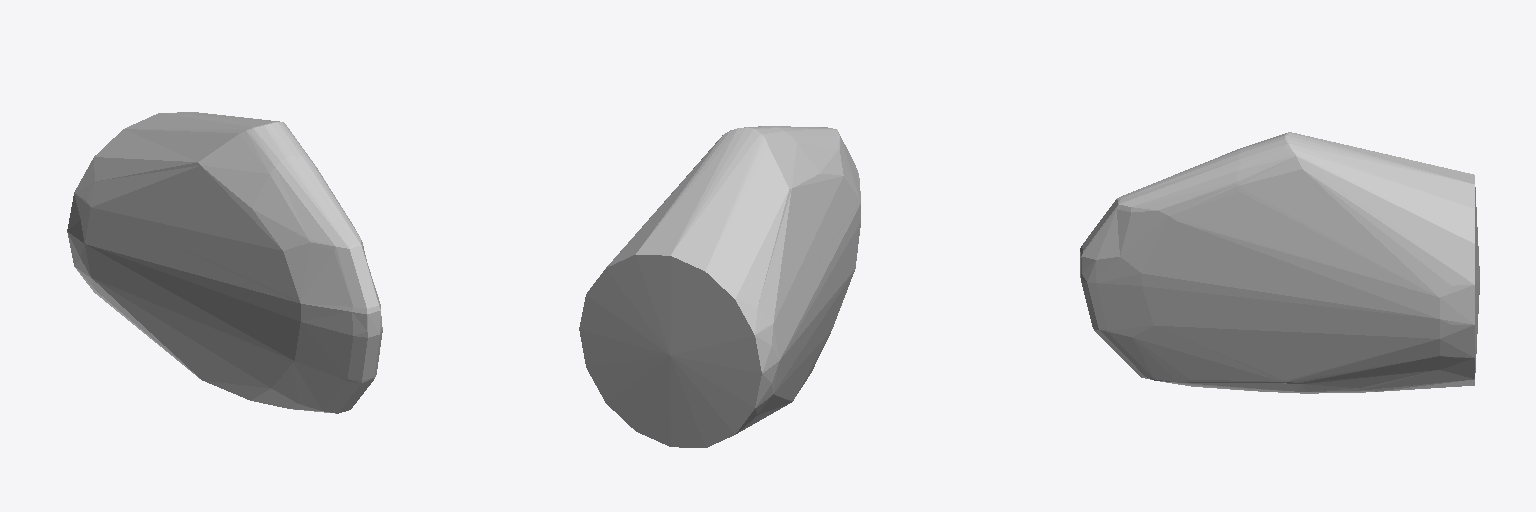
The model's file is palm_l_col.obj.
3 views of the same model, side by side, from view 1: azimuth 30°, elevation 25°; view 2: azimuth 150°, elevation 25°; view 3: azimuth 270°, elevation 25° (orthographic).
Size of the model in its own units: 0.09 by 0.1187 by 0.1707.